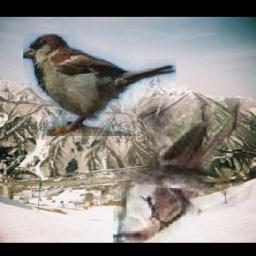Cuckoo: (113, 98, 256, 243)
Sparrow: (22, 34, 175, 136)
